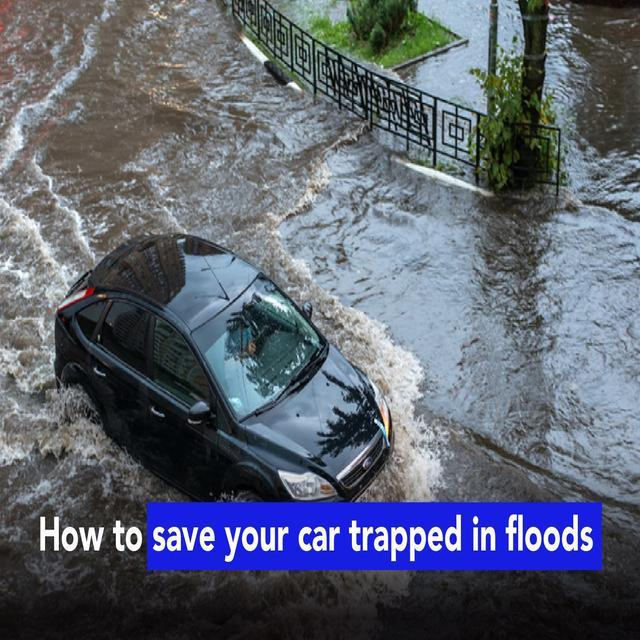Car-RiskLevel2: (42, 224, 418, 515)
